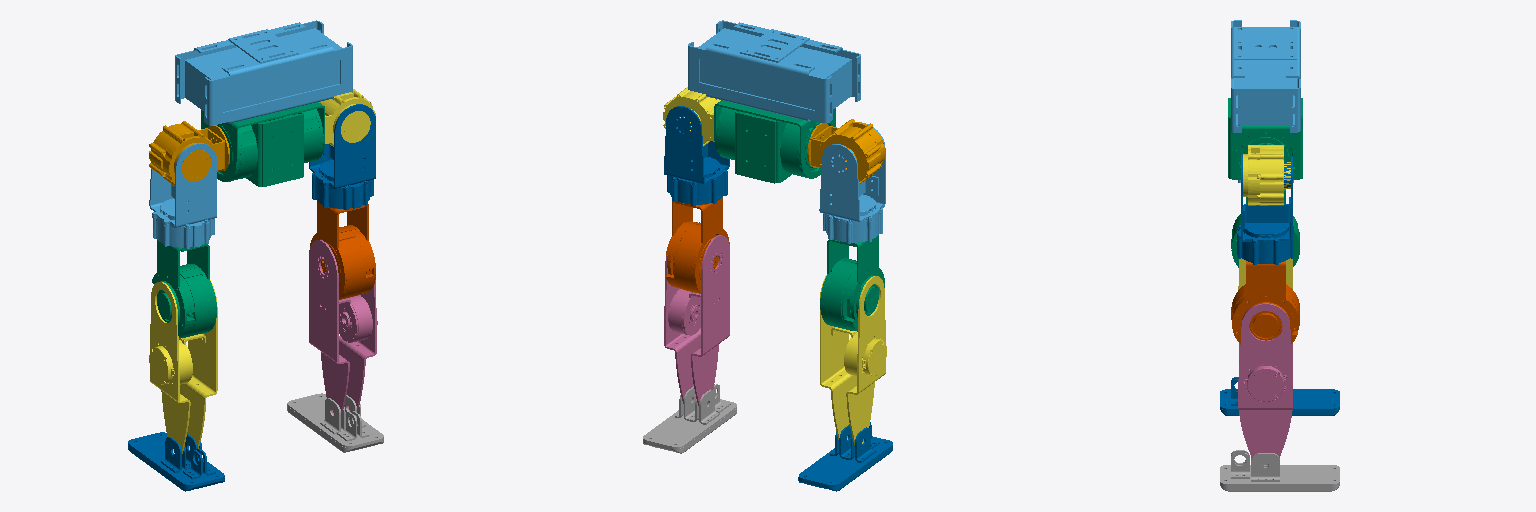
robot.urdf — ch_robot:
<?xml version='1.0' encoding='utf-8'?>
<robot name="ch_robot">

  <link name="world"/>

  <link name="torso">
    <inertial>
      <!-- Center of mass (meters) relative to the link frame -->
      <origin xyz="-0.15417 -0.030012 0.697219" rpy="0 0 0"/>
      <!-- Mass in kilograms -->
      <mass value="3.175"/>
      <!-- Inertia about the COM, expressed in the inertial frame axes (kg*m^2) -->
      <inertia
        ixx="5.173e-3"
        ixy="3.126e-17"
        ixz="1.463904e-6"
        iyy="1.947e-2"
        iyz="-1.478e-16"
        izz="2.099e-2"/>
    </inertial>

    <collision>
      <!-- box centered at torso frame -->
      <origin xyz="-0.154672 -0.03 0.6962" rpy="0 0 0" />
      <geometry>
        <box size="0.28 0.12 0.096" />
         <!-- <mesh filename="package://humanoid_leg_description/meshes/robot_meshes/visual/battery_box.stl" scale="0.001 0.001 0.001" /> -->
      </geometry>
    </collision>

    <visual>
      <!-- <origin xyz="0.281672 0.07751 -0.661236" rpy="0 0 0" /> -->
       <origin xyz="0 0 0" rpy="0 0 0" />
      <geometry>
        <mesh filename="package://humanoid_leg_description/meshes/robot_meshes/visual/battery_box.stl" scale="0.001 0.001 0.001" />
      </geometry>
    </visual>
  </link>

  <link name="hip">
    <inertial>
      <origin xyz="-0.155587 -0.02906 0.584318" rpy="0 0 0"/>
      <mass value="5.159055"/>
      <inertia ixx="0.0156"
              ixy="0.000178966"
              ixz="0.000001857794"
              iyy="0.02377"
              iyz="-0.000043706028"
              izz="0.02517"/>
    </inertial>

    <collision>
      <origin xyz="0 0 0" rpy="0 0 0" />
      <geometry>
        <mesh filename="package://humanoid_leg_description/meshes/robot_meshes/hip_ch.stl" scale="0.001 0.001 0.001" />
      </geometry>
    </collision>
    <visual>
      <origin xyz="0 0 0" rpy="0 0 0" />
      <geometry>
        <mesh filename="package://humanoid_leg_description/meshes/robot_meshes/visual/hip_dumb2.stl" scale="0.001 0.001 0.001" />
      </geometry>
    </visual>
  </link>

  <link name="left_leg1">
    <inertial>
      <origin xyz="-0.005945 -0.035287 0.577433" rpy="0 0 0"/>
      <mass value="2.189611"/>
      <inertia ixx="0.002609"
              ixy="0.000081259088"
              ixz="0.000001365266"
              iyy="0.003137"
              iyz="0.000000223227"
              izz="0.003391"/>
    </inertial>

    <collision>
      <origin xyz="0.068372 0.029495 -0.577401" rpy="0 0 0" />
      <geometry>
        <mesh filename="package://humanoid_leg_description/meshes/robot_meshes/left_leg1_ch.stl" scale="0.001 0.001 0.001" />
      </geometry>
    </collision>
    <visual>
      <origin xyz="0.068372 0.029495 -0.577401" rpy="0 0 0" />
      <geometry>
        <mesh filename="package://humanoid_leg_description/meshes/robot_meshes/visual/left_leg1_dumb.stl" scale="0.001 0.001 0.001" />
      </geometry>
    </visual>
  </link>

  <link name="left_leg2">
    <inertial>
      <origin xyz="-0.000018 -0.025475 0.486173" rpy="0 0 0"/>
      <mass value="1.709674"/>
      <inertia ixx="0.006082"
              ixy="0.000025844041"
              ixz="0.000000765045"
              iyy="0.005232"
              iyz="-0.0005798"
              izz="0.002818"/>
    </inertial>

    <collision>
      <origin xyz="4.8e-05 0.029495 -0.577401" rpy="0 0 0" />
      <geometry>
        <mesh filename="package://humanoid_leg_description/meshes/robot_meshes/left_leg2_ch.stl" scale="0.001 0.001 0.001" />
      </geometry>
    </collision>
    <visual>
      <origin xyz="4.8e-05 0.029495 -0.577401" rpy="0 0 0" />
      <geometry>
        <mesh filename="package://humanoid_leg_description/meshes/robot_meshes/visual/left_leg2_dumb.stl" scale="0.001 0.001 0.001" />
      </geometry>
    </visual>
  </link>

  <link name="left_leg3">
    <inertial>
      <origin xyz="0.005174 -0.030248 0.318931" rpy="0 0 0"/>
      <mass value="3.156742"/>
      <inertia ixx="0.009368"
              ixy="0.000046968418"
              ixz="0.0002014"
              iyy="0.0081"
              iyz="-0.000049473856"
              izz="0.004377"/>
    </inertial>

    <collision>
      <origin xyz="4.8e-05 0.029495 -0.463816" rpy="0 0 0" />
      <geometry>
        <mesh filename="package://humanoid_leg_description/meshes/robot_meshes/left_leg3_ch.stl" scale="0.001 0.001 0.001" />
      </geometry>
    </collision>
    <visual>
      <origin xyz="4.8e-05 0.029495 -0.463816" rpy="0 0 0" />
      <geometry>
        <mesh filename="package://humanoid_leg_description/meshes/robot_meshes/visual/left_leg3_dumb.stl" scale="0.001 0.001 0.001" />
      </geometry>
    </visual>
  </link>

  <link name="left_leg4">
    <inertial>
      <origin xyz="0.001337 -0.031134 0.183938" rpy="0 0 0"/>
      <mass value="1.980828"/>
      <inertia ixx="0.01171"
              ixy="-0.000022781438"
              ixz="0.0002839"
              iyy="0.01193"
              iyz="-0.0002341"
              izz="0.002972"/>
    </inertial>

    <collision>
      <origin xyz="4.8e-05 0.029495 -0.306338" rpy="0 0 0" />
      <geometry>
        <mesh filename="package://humanoid_leg_description/meshes/robot_meshes/left_leg4_ch.stl" scale="0.001 0.001 0.001" />
      </geometry>
    </collision>
    <visual>
      <origin xyz="4.8e-05 0.029495 -0.306338" rpy="0 0 0" />
      <geometry>
        <mesh filename="package://humanoid_leg_description/meshes/robot_meshes/visual/left_leg4_dumb.stl" scale="0.001 0.001 0.001" />
      </geometry>
    </visual>
  </link>

  <link name="left_foot">
    <inertial>
      <origin xyz="-0.00053 -0.020276 0.011109" rpy="0 0 0"/>
      <mass value="0.765723"/>
      <inertia ixx="0.002071"
              ixy="-0.000017795772"
              ixz="0.000002818065"
              iyy="0.0004678"
              iyz="0.0001167"
              izz="0.002213"/>
    </inertial>

    <collision>
      <origin xyz="-0.01 0.025 -0.035" rpy="0 0 0" />
      <geometry>
        <!-- <mesh filename="package://humanoid_leg_description/meshes/robot_meshes/left_foot_ch.stl" scale="0.001 0.001 0.001" /> -->
        <box size="0.08 0.21 0.01526"/>
      </geometry>
    </collision>
    <visual>
      <origin xyz="-0.00958 0.03 -0.031528" rpy="0 0 0" />
      <geometry>
        <mesh filename="package://humanoid_leg_description/meshes/robot_meshes/visual/left_foot.stl" scale="0.001 0.001 0.001" />
      </geometry>
    </visual>

    <visual>
      <origin xyz="0.3 0.03 -0.031528" rpy="0 0 0" />
      <geometry>
        <mesh filename="package://humanoid_leg_description/meshes/robot_meshes/visual/left_foot_sole.stl" scale="0.001 0.001 0.001" />
      </geometry>
    </visual>
  </link>

  <link name="right_leg1">
    <inertial>
      <origin xyz="-0.305326 -0.035287 0.577434" rpy="0 0 0"/>
      <mass value="2.189548"/>
      <inertia ixx="0.002609"
              ixy="-0.000081252869"
              ixz="-0.00000135392"
              iyy="0.003137"
              iyz="0.00000024481"
              izz="0.003391"/>
    </inertial>
    <collision>
      <origin xyz="0.2429 0.029495 -0.577401" rpy="0 0 0" />
      <geometry>
        <mesh filename="package://humanoid_leg_description/meshes/robot_meshes/right_leg1_ch.stl" scale="0.001 0.001 0.001" />
      </geometry>
    </collision>
    <visual>
      <origin xyz="0.2429 0.029495 -0.577401" rpy="0 0 0" />
      <geometry>
        <mesh filename="package://humanoid_leg_description/meshes/robot_meshes/visual/right_leg1_dumb.stl" scale="0.001 0.001 0.001" />
      </geometry>
    </visual>
  </link>
  
  <link name="right_leg2">
    <inertial>
      <origin xyz="-0.311252 -0.025506 0.485714" rpy="0 0 0"/>
      <mass value="1.72284"/>
      <inertia ixx="0.006132"
              ixy="-0.000025837194"
              ixz="-0.000000742612"
              iyy="0.005281"
              iyz="-0.000583"
              izz="0.002822"/>
    </inertial>
    <collision>
      <origin xyz="0.311223 0.029495 -0.577401" rpy="0 0 0" />
      <geometry>
        <mesh filename="package://humanoid_leg_description/meshes/robot_meshes/right_leg2_ch.stl" scale="0.001 0.001 0.001" />
      </geometry>
    </collision>
    <visual>
      <origin xyz="0.311223 0.029495 -0.577401" rpy="0 0 0" />
      <geometry>
        <mesh filename="package://humanoid_leg_description/meshes/robot_meshes/visual/right_leg2_dumb.stl" scale="0.001 0.001 0.001" />
      </geometry>
    </visual>
  </link>
  <link name="right_leg3">
    <inertial>
      <origin xyz="-0.317293 -0.030266 0.31875" rpy="0 0 0"/>
      <mass value="3.074969"/>
      <inertia ixx="0.009174"
              ixy="-0.000045044639"
              ixz="-0.0002255"
              iyy="0.007824"
              iyz="-0.000049133206"
              izz="0.004262"/>
    </inertial>
    <collision>
      <origin xyz="0.311223 0.029495 -0.463816" rpy="0 0 0" />
      <geometry>
        <mesh filename="package://humanoid_leg_description/meshes/robot_meshes/right_leg3_ch.stl" scale="0.001 0.001 0.001" />
      </geometry>
    </collision>
    <visual>
      <origin xyz="0.311223 0.029495 -0.463816" rpy="0 0 0" />
      <geometry>
        <mesh filename="package://humanoid_leg_description/meshes/robot_meshes/visual/right_leg3_dumb.stl" scale="0.001 0.001 0.001" />
      </geometry>
    </visual>
  </link>
  <link name="right_leg4">
    <inertial>
      <origin xyz="-0.312608 -0.031134 0.183938" rpy="0 0 0"/>
      <mass value="1.980828"/>
      <inertia ixx="0.01171"
              ixy="0.000022781459"
              ixz="-0.0002839"
              iyy="0.01193"
              iyz="-0.0002341"
              izz="0.002972"/>
    </inertial>
    <collision>
      <origin xyz="0.311223 0.029495 -0.306338" rpy="0 0 0" />
      <geometry>
        <mesh filename="package://humanoid_leg_description/meshes/robot_meshes/right_leg4_ch.stl" scale="0.001 0.001 0.001" />
      </geometry>
    </collision>
    <visual>
      <origin xyz="0.311223 0.029495 -0.306338" rpy="0 0 0" />
      <geometry>
        <mesh filename="package://humanoid_leg_description/meshes/robot_meshes/visual/right_leg4_dumb.stl" scale="0.001 0.001 0.001" />
      </geometry>
    </visual>
  </link>
  
  <link name="right_foot">
    <inertial>
      <origin xyz="-0.310741 -0.020276 0.011109" rpy="0 0 0"/>
      <mass value="0.765723"/>
      <inertia ixx="0.002071"
              ixy="0.000017795772"
              ixz="-0.000002818065"
              iyy="0.0004678"
              iyz="0.0001167"
              izz="0.002213"/>
    </inertial>
    <collision>
      <origin xyz="0.01 0.025 -0.035" rpy="0 0 0" />
      <geometry>
        <!-- <mesh filename="package://humanoid_leg_description/meshes/robot_meshes/right_foot_ch.stl" scale="0.001 0.001 0.001" /> -->
        <box size="0.08 0.21 0.01526"/>
      </geometry>
    </collision>
    <visual>
      <origin xyz="0.320851 0.03 -0.031528" rpy="0 0 0" />
      <geometry>
        <mesh filename="package://humanoid_leg_description/meshes/robot_meshes/visual/right_foot.stl" scale="0.001 0.001 0.001" />
      </geometry>
    </visual>

    <visual>
      <origin xyz="0.01 0.03 -0.031528" rpy="0 0 0" />
      <geometry>
        <mesh filename="package://humanoid_leg_description/meshes/robot_meshes/visual/right_foot_sole.stl" scale="0.001 0.001 0.001" />
      </geometry>
    </visual>
  </link>

  <!-- THIS JOINT MOVES THE ENTIRE BODY  -->
  <joint name="world_to_base" type="fixed">
    <parent link="world"/>
    <child link="torso"/>
    <!-- This is the shift you observed on hip+legs when hip_to_torso was set -->
    <origin xyz="0.155 0.03 0.35" rpy="0 0 0"/>
  </joint>

  <joint name="torso_to_hip" type="fixed">
    <parent link="torso"/>
    <child  link="hip"/>
    <!-- torso frame position relative to hip frame -->
    <origin xyz="0 0 0" rpy="0 0 0"/>
  </joint>

  <joint name="left_hip1_joint" type="revolute">
    <parent link="hip" />
    <child link="left_leg1" />
    <origin xyz="-0.068372 -0.029495 0.577401" rpy="0 0 0" />
    <axis xyz="1.0 0.0 0.0" />
    <limit lower="-1.57" upper="1.57" effort="100" velocity="5.0" />
    <dynamics damping="1.0" />
  </joint><joint name="left_hip2_joint" type="revolute">
    <parent link="left_leg1" />
    <child link="left_leg2" />
    <origin xyz="0.068324 0 0" rpy="0 0 0" />
    <axis xyz="0.0 1.0 0.0" />
    <limit lower="-1.57" upper="0.436332" effort="100" velocity="5.0" />
    <dynamics damping="1.0" />
  </joint><joint name="left_thigh_joint" type="revolute">
    <parent link="left_leg2" />
    <child link="left_leg3" />
    <origin xyz="0 0 -0.113585" rpy="0 0 0" />
    <axis xyz="0.0 0.0 -1.0" />
    <limit lower="-0.785398" upper="0.785398" effort="100" velocity="5.0" />
    <dynamics damping="1.0" />
  </joint><joint name="left_knee_joint" type="revolute">
    <parent link="left_leg3" />
    <child link="left_leg4" />
    <origin xyz="0 0 -0.157478" rpy="0 0 0" />
    <axis xyz="1.0 0.0 0.0" />
    <limit lower="-2.0944" upper="0" effort="100" velocity="5.0" />
    <dynamics damping="1.0" />
  </joint><joint name="left_ankle_joint" type="revolute">
    <parent link="left_leg4" />
    <child link="left_foot" />
    <origin xyz="0.009628 -0.000505 -0.27481" rpy="0 0 0" />
    <axis xyz="1.0 0.0 0.0" />
    <limit lower="-0.6" upper="0.6" effort="100" velocity="5.0" />
    <dynamics damping="1.0" />
  </joint><joint name="right_hip1_joint" type="revolute">
    <parent link="hip" />
    <child link="right_leg1" />
    <origin xyz="-0.2429 -0.029495 0.577401" rpy="0 0 0" />
    <axis xyz="1.0 0.0 0.0" />
    <limit lower="-1.57" upper="1.57" effort="100" velocity="5.0" />
    <dynamics damping="1.0" />
  </joint><joint name="right_hip2_joint" type="revolute">
    <parent link="right_leg1" />
    <child link="right_leg2" />
    <origin xyz="-0.068323 0 0" rpy="0 0 0" />
    <axis xyz="0.0 1.0 0.0" />
    <limit lower="-0.436332" upper="1.57" effort="100" velocity="5.0" />
    <dynamics damping="1.0" />
  </joint><joint name="right_thigh_joint" type="revolute">
    <parent link="right_leg2" />
    <child link="right_leg3" />
    <origin xyz="0 0 -0.113585" rpy="0 0 0" />
    <axis xyz="0.0 0.0 1.0" />
    <limit lower="-0.785398" upper="0.785398" effort="100" velocity="5.0" />
    <dynamics damping="1.0" />
  </joint><joint name="right_knee_joint" type="revolute">
    <parent link="right_leg3" />
    <child link="right_leg4" />
    <origin xyz="0 0 -0.157478" rpy="0 0 0" />
    <axis xyz="1.0 0.0 0.0" />
    <limit lower="-2.0944" upper="0" effort="100" velocity="5.0" />
    <dynamics damping="1.0" />
  </joint><joint name="right_ankle_joint" type="revolute">
    <parent link="right_leg4" />
    <child link="right_foot" />
    <origin xyz="-0.009628 -0.000505 -0.27481" rpy="0 0 0" />
    <axis xyz="1.0 0.0 0.0" />
    <limit lower="-0.6" upper="0.6" effort="100" velocity="5.0" />
    <dynamics damping="1.0" />
  </joint>
</robot>

<!-- 
Note this urdf is offset because the fusion360 mesh export was done with reference 
to a global coordinate frame positioned at the foot. 

The ranges are as follows:


-->

--- What the picture shows (computed from the rendered views, not written in the file) ---
Views: 3 orthographic renders of the robot side by side, from view 1: azimuth 30°, elevation 25°; view 2: azimuth 150°, elevation 25°; view 3: azimuth 270°, elevation 25°.
Robot: ch_robot — 13 links, 12 joints (10 revolute, 2 fixed); root link world; default pose: every joint at zero.
Links seen in each view (by area): view 1: torso, left_leg4, right_leg4, hip, right_leg2, left_leg2, right_leg3, left_leg3, right_leg1, right_foot, left_foot, left_leg1; view 2: torso, left_leg4, right_leg4, hip, right_leg2, left_leg2, right_leg3, left_leg3, left_foot, right_foot, right_leg1, left_leg1; view 3: torso, left_leg4, left_foot, left_leg3, left_leg2, left_leg1, hip, right_foot, right_leg3.
Link boxes in pixels (<box>): torso: <box>175,20,352,125</box>; left_leg4: <box>309,240,377,416</box>; right_leg4: <box>149,280,217,453</box>; hip: <box>201,102,324,186</box>; right_leg2: <box>149,133,216,248</box>; left_leg2: <box>309,104,375,209</box>; right_leg3: <box>152,240,216,337</box>; left_leg3: <box>309,202,375,299</box>; right_leg1: <box>149,121,229,185</box>; right_foot: <box>128,432,224,491</box>; left_foot: <box>287,393,383,452</box>; left_leg1: <box>319,89,375,146</box>; torso: <box>688,20,860,122</box>; left_leg4: <box>664,235,729,405</box>; right_leg4: <box>820,275,886,444</box>; hip: <box>714,100,835,183</box>; right_leg2: <box>819,124,885,243</box>; left_leg2: <box>664,106,729,205</box>; right_leg3: <box>820,235,884,331</box>; left_leg3: <box>666,197,729,293</box>; left_foot: <box>643,384,736,453</box>; right_foot: <box>798,422,892,491</box>; right_leg1: <box>807,119,884,183</box>; left_leg1: <box>663,87,720,146</box>; torso: <box>1231,20,1300,132</box>; left_leg4: <box>1238,303,1292,457</box>; left_foot: <box>1220,450,1339,491</box>; left_leg3: <box>1231,261,1299,343</box>; left_leg2: <box>1237,153,1293,264</box>; left_leg1: <box>1243,145,1290,205</box>; hip: <box>1228,98,1302,179</box>; right_foot: <box>1220,377,1339,415</box>; right_leg3: <box>1231,189,1299,267</box>.
Bounding box of the posed robot: 0.4118 × 0.21 × 0.7599 m (x, y, z).
14 mesh visuals loaded from 14 distinct referenced files (14 binary STL).
